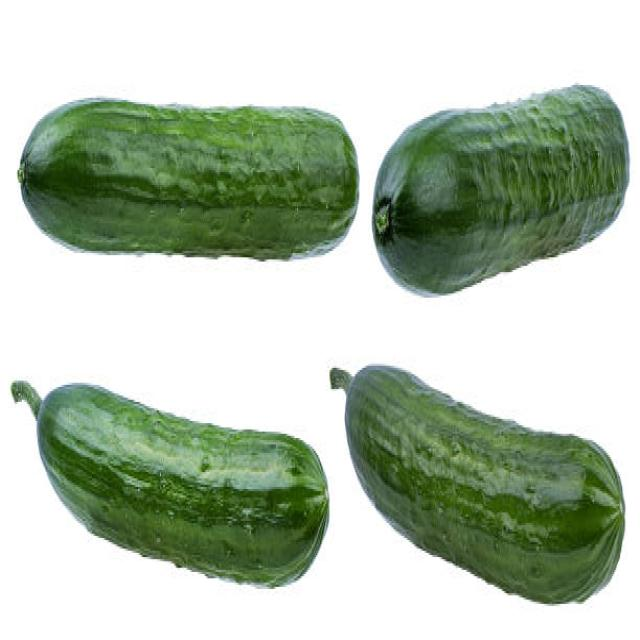cucumber: (345, 364, 625, 606), (37, 382, 330, 590), (20, 96, 360, 264), (372, 81, 631, 295)
